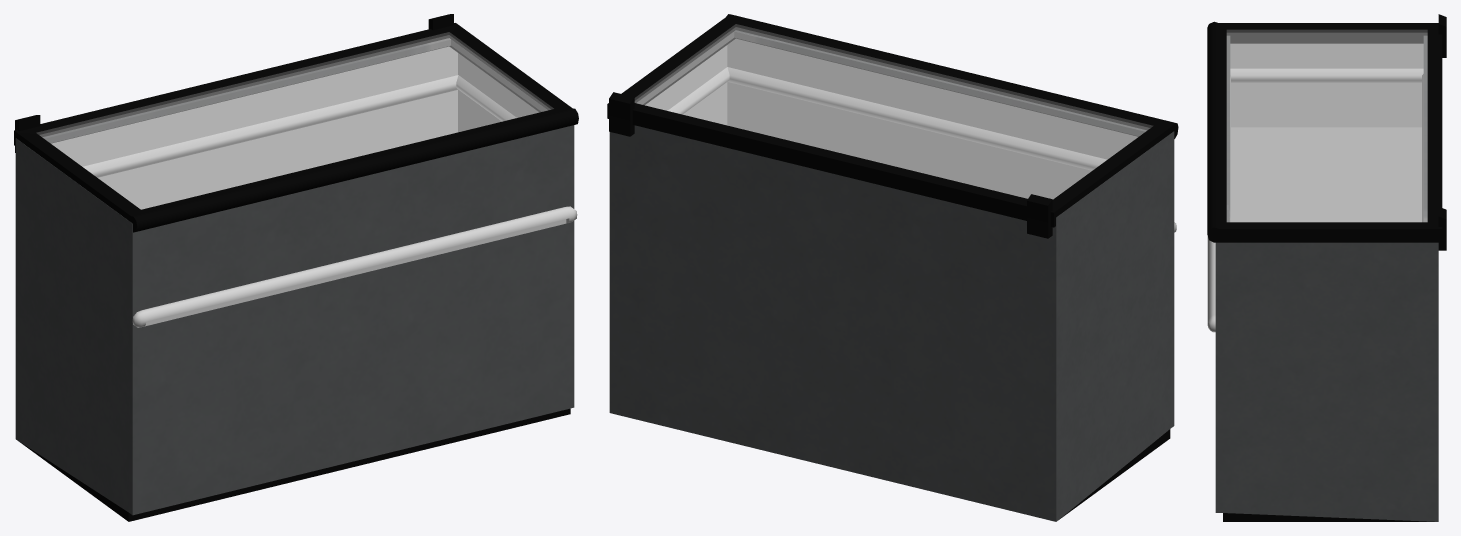
The model's file is fridge_single 2.fbx.
The picture shows the model from 3 angles, left to right: view 1: azimuth 30°, elevation 25°; view 2: azimuth 150°, elevation 25°; view 3: azimuth 270°, elevation 25°; orthographic projection. The views are drawn at different scales.
Parts seen in each view (by area): view 1: Freezer_9olxw5, Freezer_9olxw5_Door.001, Freezer_9olxw5_Door; view 2: Freezer_9olxw5, Freezer_9olxw5_Door.001, Freezer_9olxw5_Door; view 3: Freezer_9olxw5, Freezer_9olxw5_Door.001, Freezer_9olxw5_Door.
Boxes of the visible parts, x1=… form: Freezer_9olxw5: x1=15, y1=14, x2=577, y2=521; Freezer_9olxw5_Door.001: x1=37, y1=32, x2=553, y2=209; Freezer_9olxw5_Door: x1=14, y1=23, x2=578, y2=232; Freezer_9olxw5: x1=609, y1=30, x2=1176, y2=521; Freezer_9olxw5_Door.001: x1=635, y1=24, x2=1152, y2=198; Freezer_9olxw5_Door: x1=607, y1=14, x2=1178, y2=227; Freezer_9olxw5: x1=1207, y1=14, x2=1446, y2=521; Freezer_9olxw5_Door.001: x1=1227, y1=30, x2=1427, y2=221; Freezer_9olxw5_Door: x1=1207, y1=21, x2=1442, y2=242.
Bounding box in the file's own units: 48.4 × 33.31 × 23.8.
Materials: 2 (1 with a texture image).
